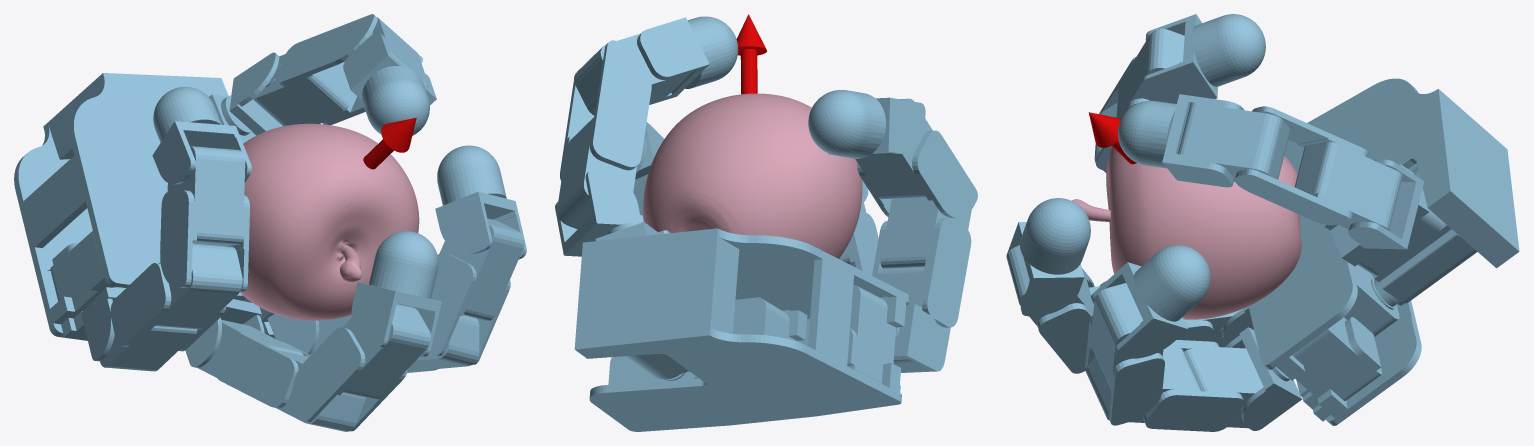
3 views of the same model, side by side, from view 1: azimuth 30°, elevation 25°; view 2: azimuth 150°, elevation 25°; view 3: azimuth 270°, elevation 25° (orthographic). The views are drawn at different scales.
Parts seen in each view (by area): view 1: world, apple.stl; view 2: world, apple.stl; view 3: world, apple.stl.
Boxes of the visible parts, x1=… form: world: x1=14, y1=14, x2=526, y2=431; apple.stl: x1=240, y1=123, x2=419, y2=320; world: x1=555, y1=14, x2=977, y2=431; apple.stl: x1=643, y1=93, x2=862, y2=258; world: x1=1006, y1=14, x2=1519, y2=431; apple.stl: x1=1072, y1=147, x2=1301, y2=319.
Size of the model in its own units: 0.1679 by 0.1425 by 0.189.
